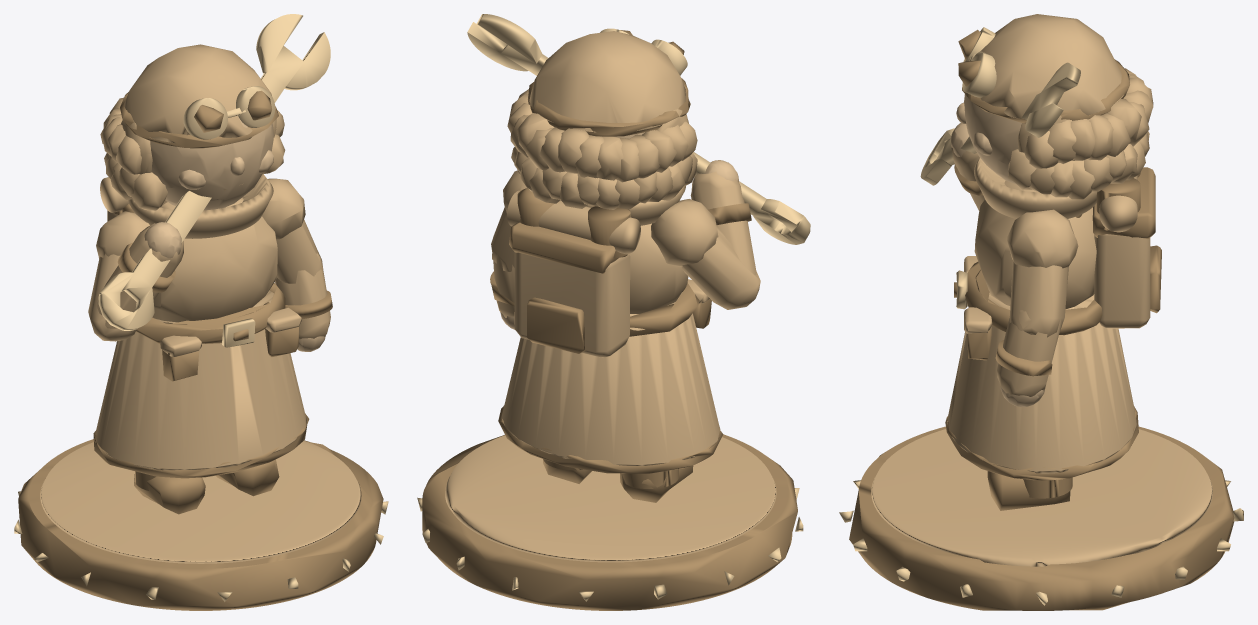
The model's file is figure-engineer.glb.
The picture shows the model from 3 angles, left to right: view 1: azimuth 30°, elevation 25°; view 2: azimuth 150°, elevation 25°; view 3: azimuth 270°, elevation 25°; orthographic projection. The views are drawn at different scales.
Parts seen in each view (by area): view 1: bronze, dark_bronze, polished_bronze, skin_bronze; view 2: bronze, dark_bronze, polished_bronze, skin_bronze; view 3: bronze, dark_bronze, polished_bronze, skin_bronze.
Part boxes in pixels (left/top/right/bottom): bronze: left=40, top=44, right=361, bottom=563; dark_bronze: left=18, top=90, right=383, bottom=610; polished_bronze: left=14, top=14, right=388, bottom=601; skin_bronze: left=144, top=108, right=325, bottom=351; bronze: left=445, top=31, right=776, bottom=562; dark_bronze: left=422, top=30, right=797, bottom=610; polished_bronze: left=417, top=14, right=810, bottom=601; skin_bronze: left=500, top=132, right=738, bottom=329; bronze: left=871, top=14, right=1212, bottom=566; dark_bronze: left=849, top=29, right=1234, bottom=610; polished_bronze: left=839, top=27, right=1243, bottom=605; skin_bronze: left=951, top=94, right=1045, bottom=406.
Size of the model in its own units: 0.4249 by 0.6005 by 0.4241.
